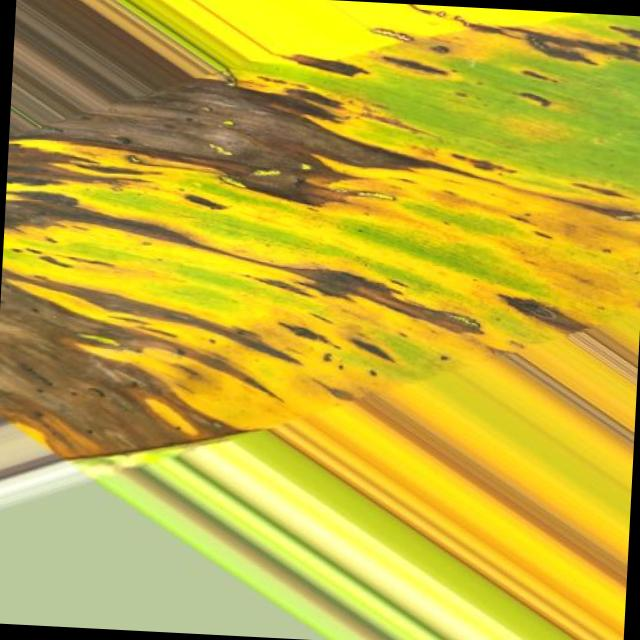Banana_Black_Sigatoka: (0, 65, 383, 480), (397, 6, 640, 365)
